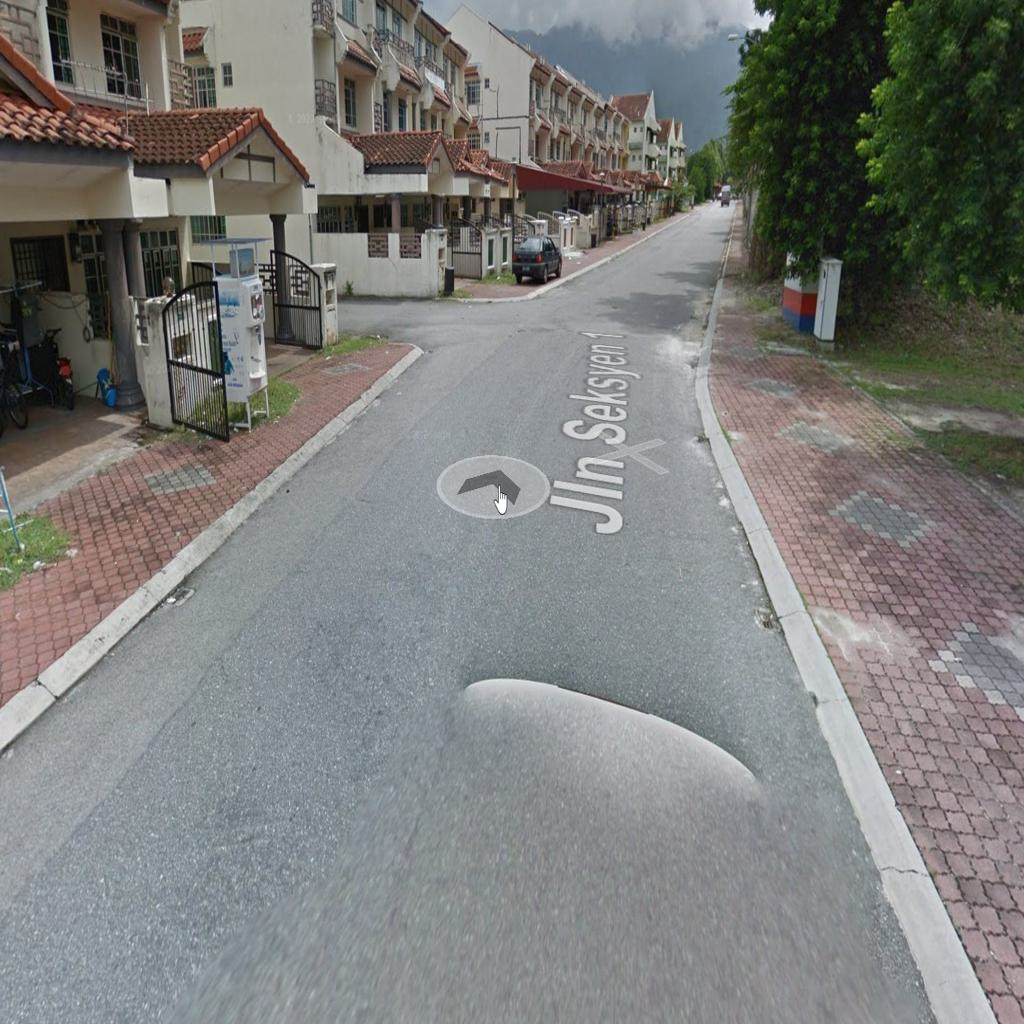Junction: (335, 264, 551, 397)
